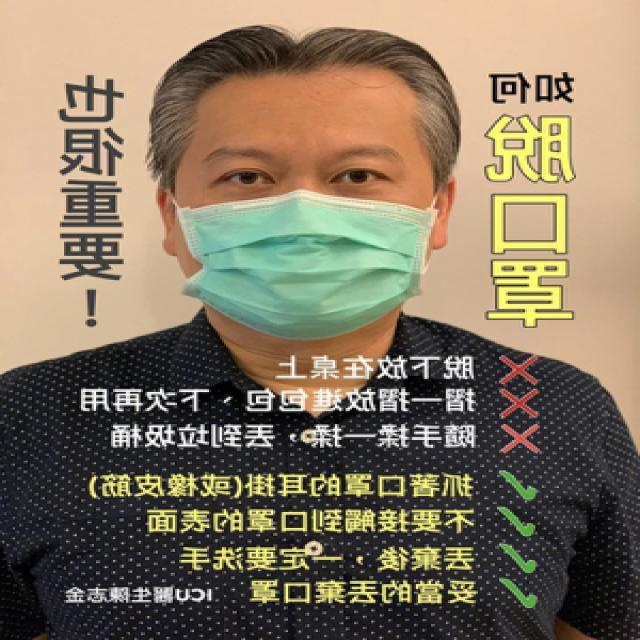mask: (182, 137, 438, 340)
